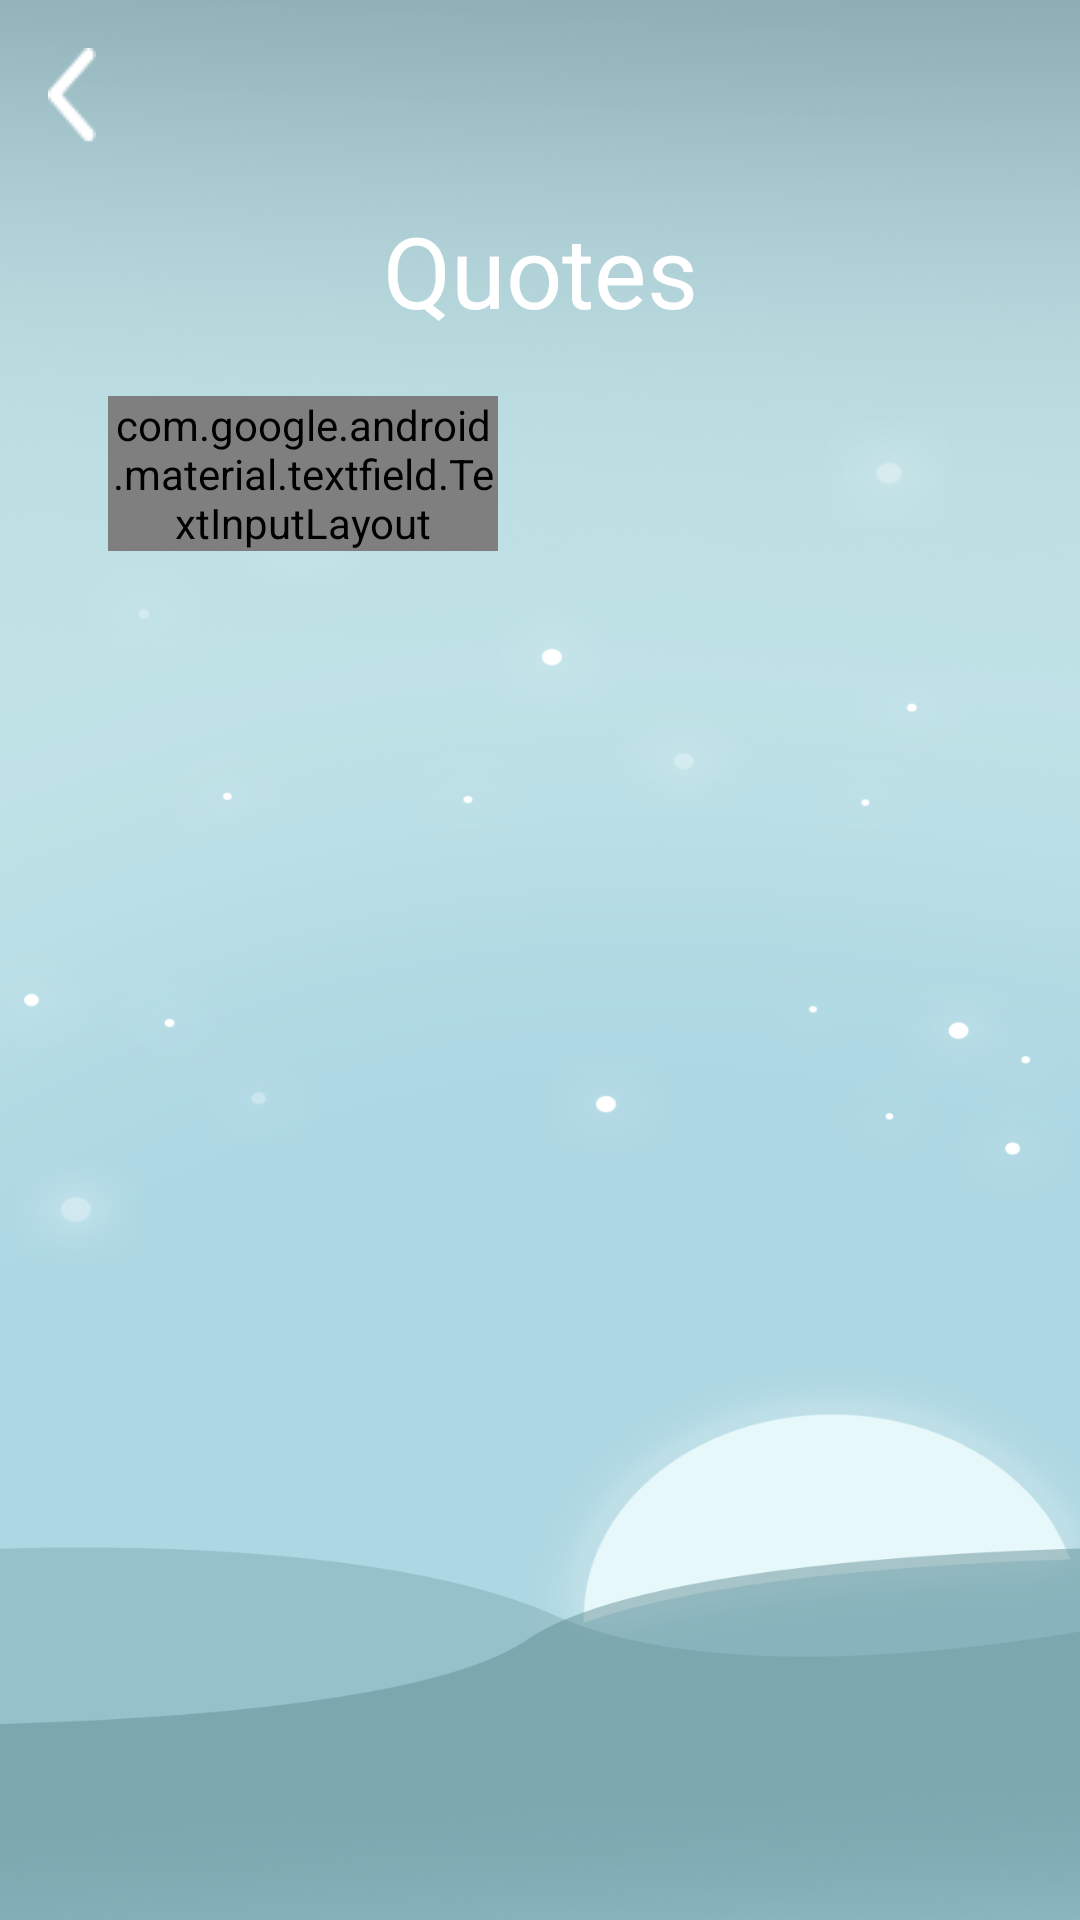

Icons on this 1080×1920 Android screen, each with the point to tap as (x,y):
arrow back: (72,95)
